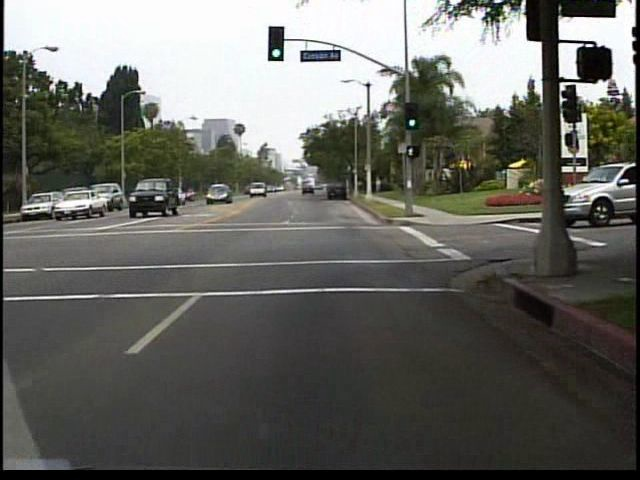person: (367, 175, 376, 199), (374, 173, 383, 193)
